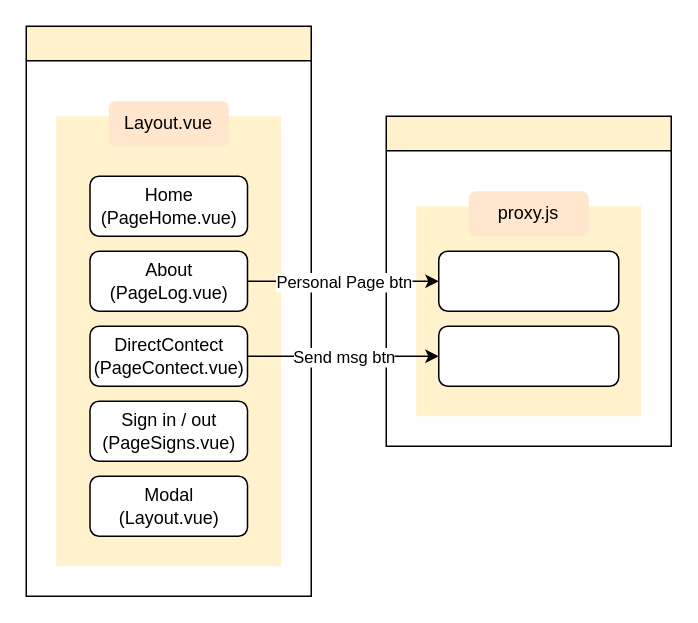
This 698x623 diagram has some shape labels left out. The box of each missing label's shape, as (x1, y1, x2, y2) in pixels:
HomePage: (25, 25, 311, 596)
My AWS server: (385, 115, 671, 446)
Other API (on progressing): (437, 325, 619, 386)
Portfolio (ip address:3000): (437, 250, 619, 311)
